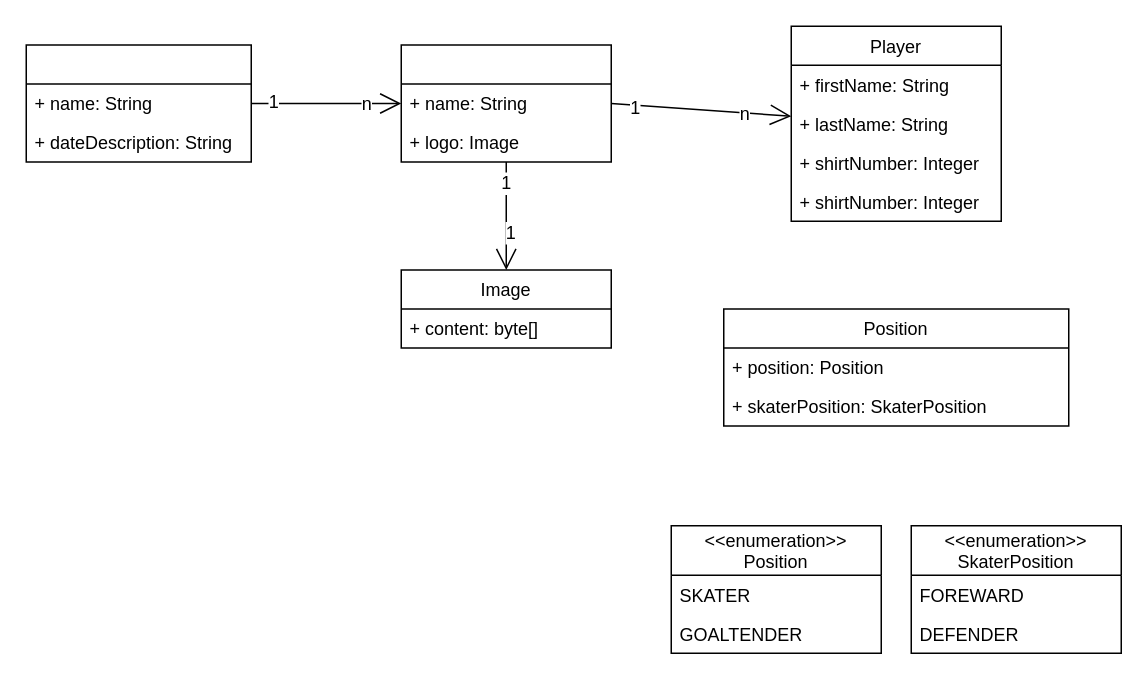
Some shapes in this 1148 by 684 pixel diagram are drawn without their labels. Here are the shapes that lost their labels. From the top down, the box of each, then its label:
(25, 44, 251, 162): Tournament
(400, 44, 611, 162): Team
